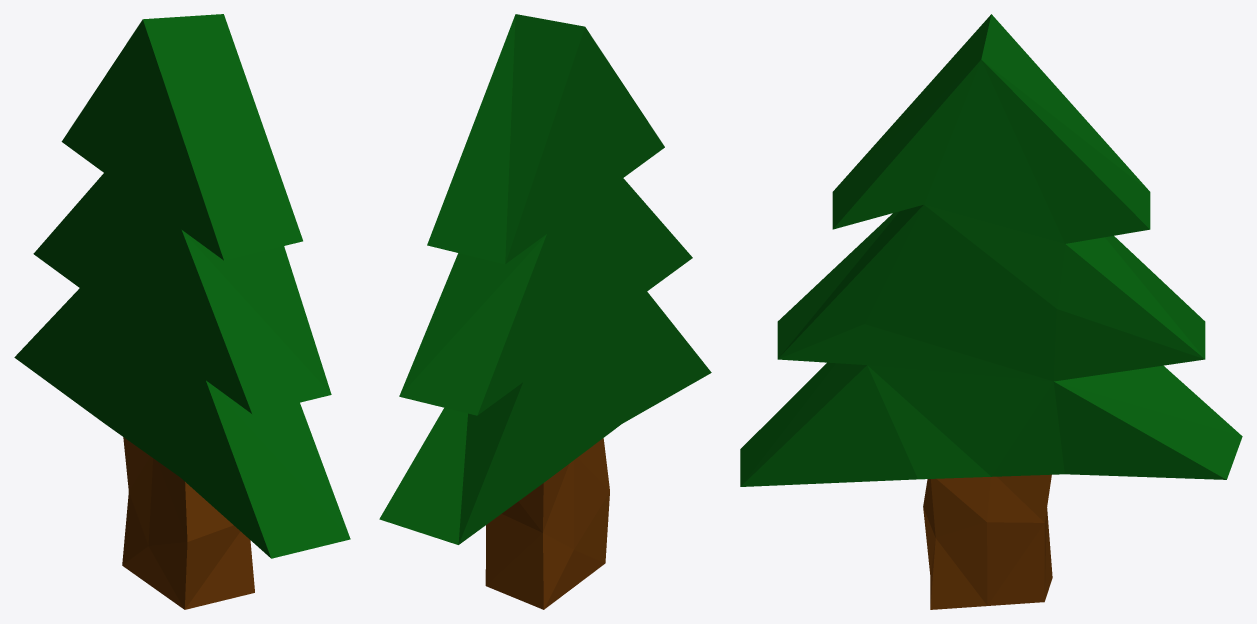
Rendered from Tree.fbx.
The picture shows the model from 3 angles, left to right: view 1: azimuth 30°, elevation 25°; view 2: azimuth 150°, elevation 25°; view 3: azimuth 270°, elevation 25°; orthographic projection. The views are drawn at different scales.
Parts seen in each view (by area): view 1: Cube; view 2: Cube; view 3: Cube.
Boxes of the visible parts, bbox=[...] form: Cube: bbox=[14, 14, 350, 609]; Cube: bbox=[379, 14, 711, 609]; Cube: bbox=[740, 14, 1242, 609].
Size of the model in its own units: 42.81 by 250 by 204.
